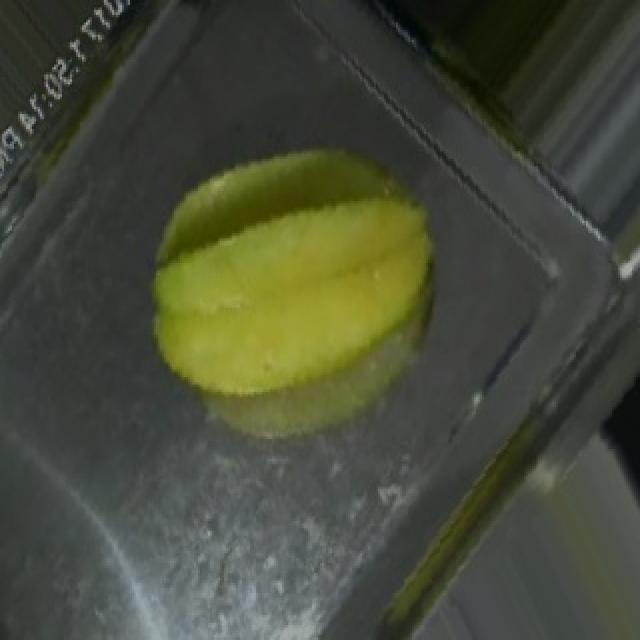fruit: (78, 74, 506, 479)
